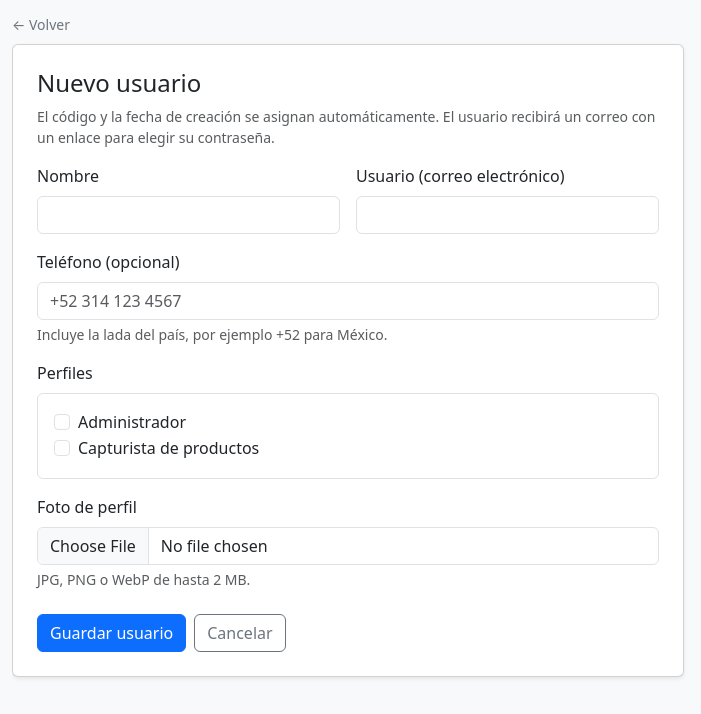
it: UserFormComponent › alta (/usuarios/nuevo) › valida el formato del correo y que el teléfono lleve lada
In the field labelled "Usuario (correo electrónico)": [508, 215] box [356,196,659,234], type "no-es-correo"
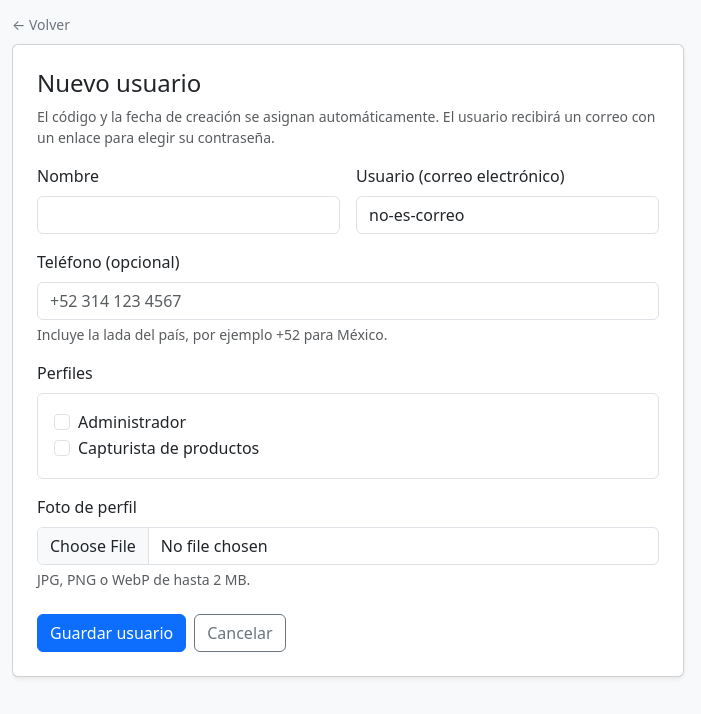
In the field labelled "Teléfono (opcional)": [348, 301] box [37,282,659,320], type "314 123 4567"
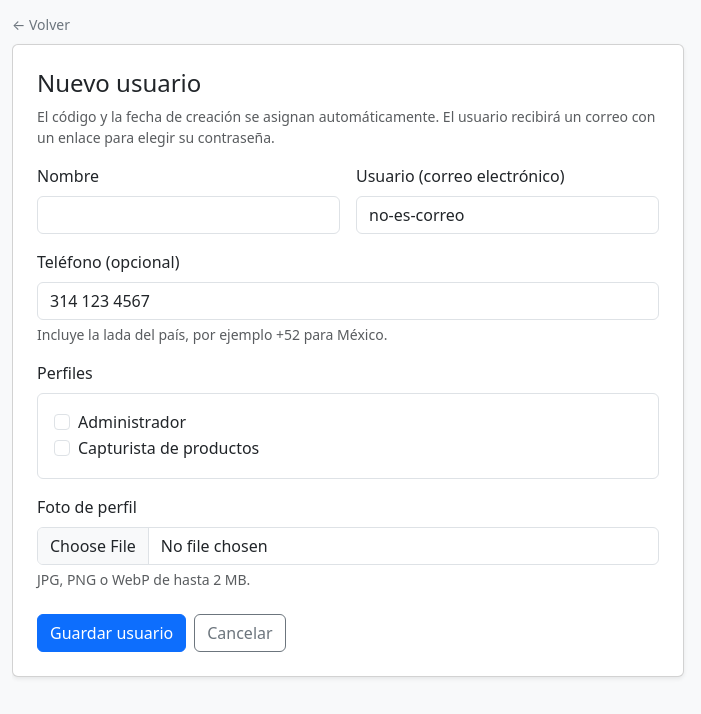
Submit the form
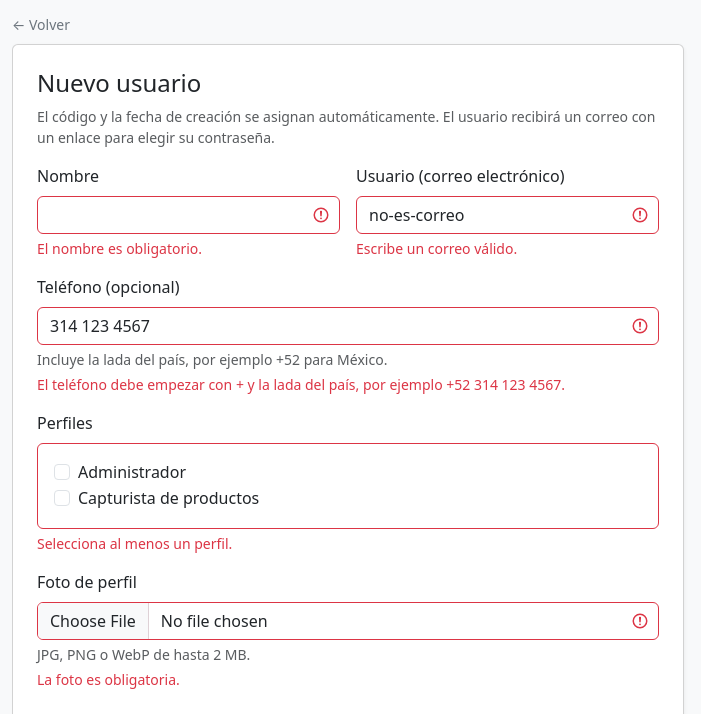
Check: the text "Escribe un correo válido." is shown, box [356,239,517,258]
